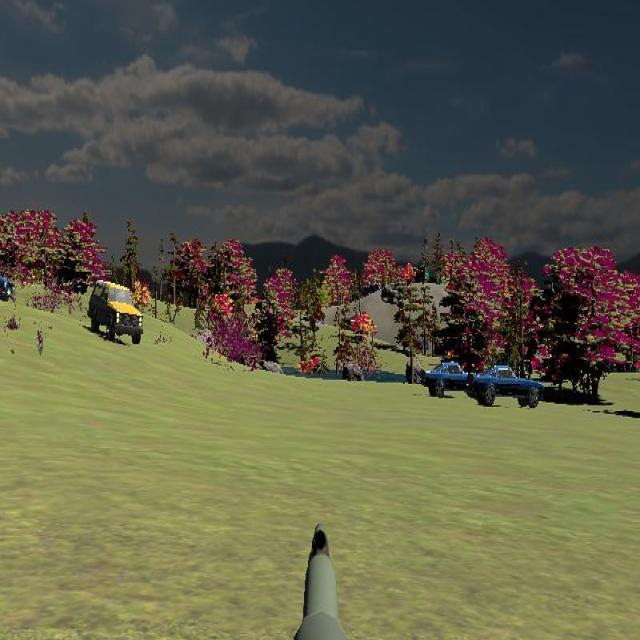car: (88, 280, 143, 345), (472, 364, 544, 408), (424, 360, 479, 397), (0, 265, 15, 303)
